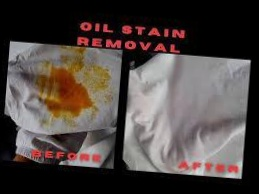oil: (28, 59, 110, 129), (58, 48, 116, 104)
